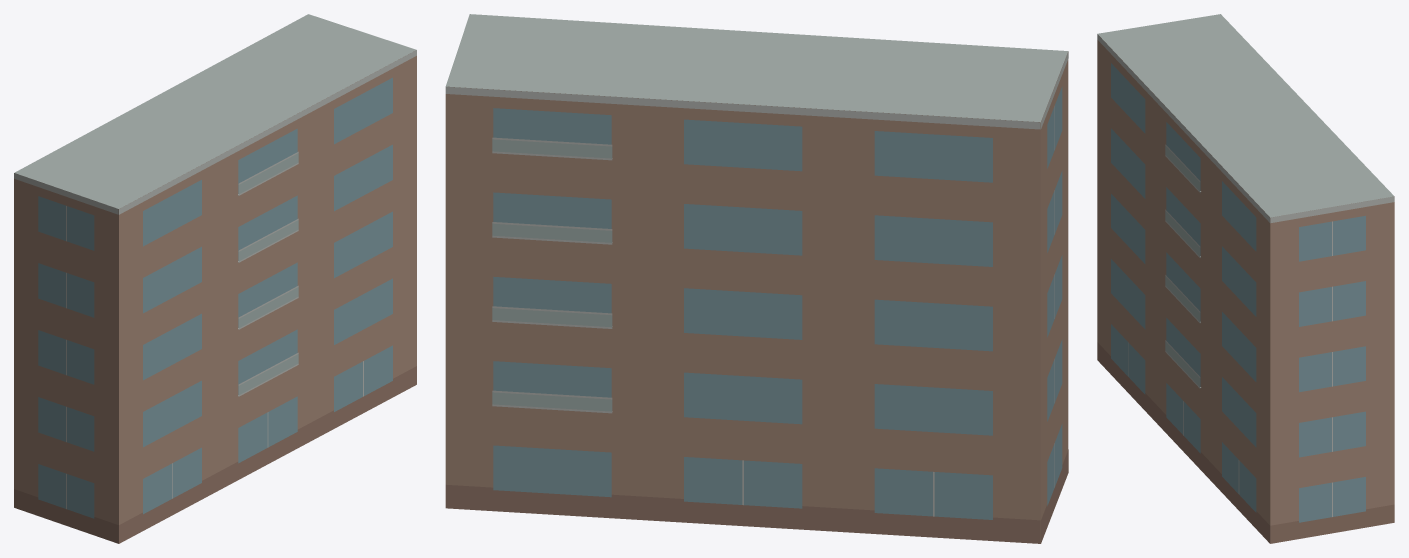
Rendered from survey-upis-32587662.glb.
3 renders of one model, left to right at view 1: azimuth 30°, elevation 25°; view 2: azimuth 150°, elevation 25°; view 3: azimuth 270°, elevation 25°, orthographic. The views are drawn at different scales.
Visible parts, largest first — view 1: survey-upis-32587662.tmp; view 2: survey-upis-32587662.tmp; view 3: survey-upis-32587662.tmp.
Boxes of the visible parts, box(x1,y1,x2,y2) form: survey-upis-32587662.tmp: box(14, 14, 416, 543); survey-upis-32587662.tmp: box(445, 14, 1068, 543); survey-upis-32587662.tmp: box(1097, 14, 1394, 543).
Size of the model in its own units: 18.74 by 14 by 11.57.
